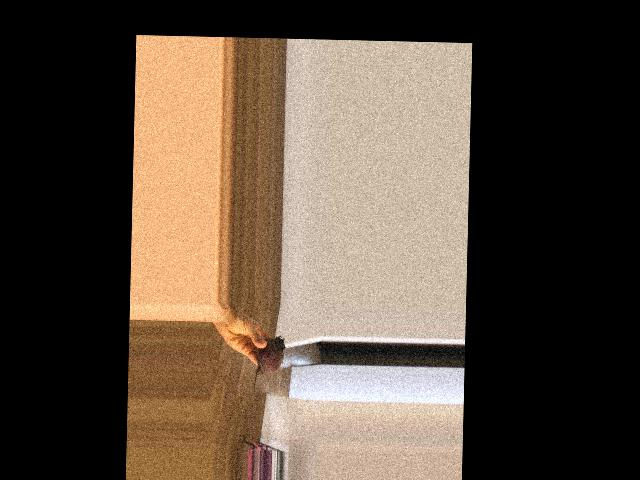beet: (253, 336, 285, 401)
